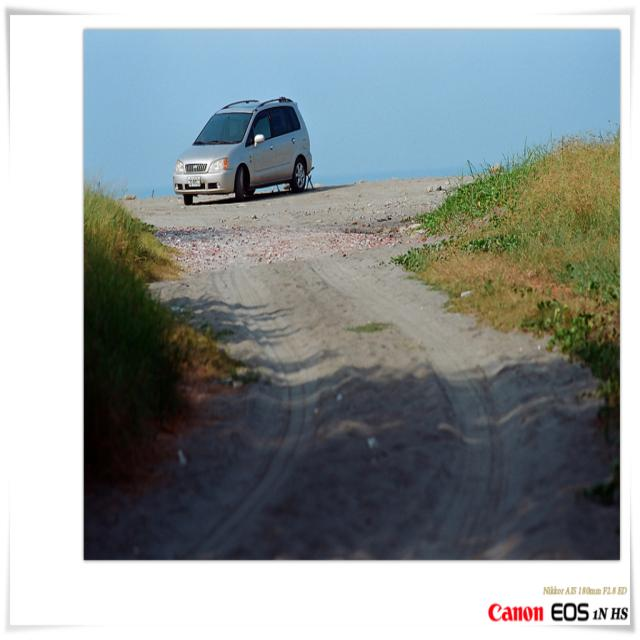car: (173, 93, 312, 203)
